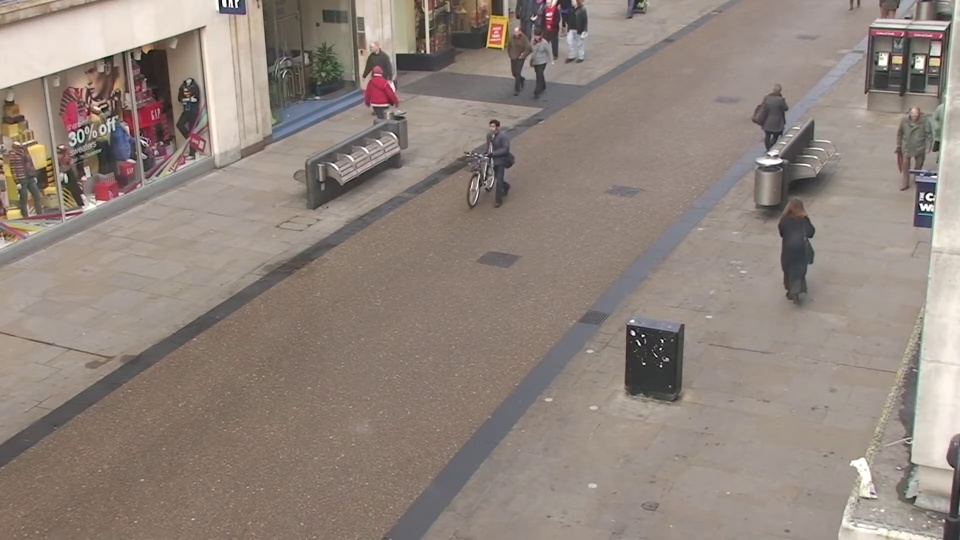pedestrian: (774, 188, 816, 303), (887, 104, 931, 201), (475, 115, 507, 211), (761, 79, 793, 165), (369, 59, 398, 138), (356, 43, 384, 118), (523, 29, 548, 100), (503, 23, 528, 93)
